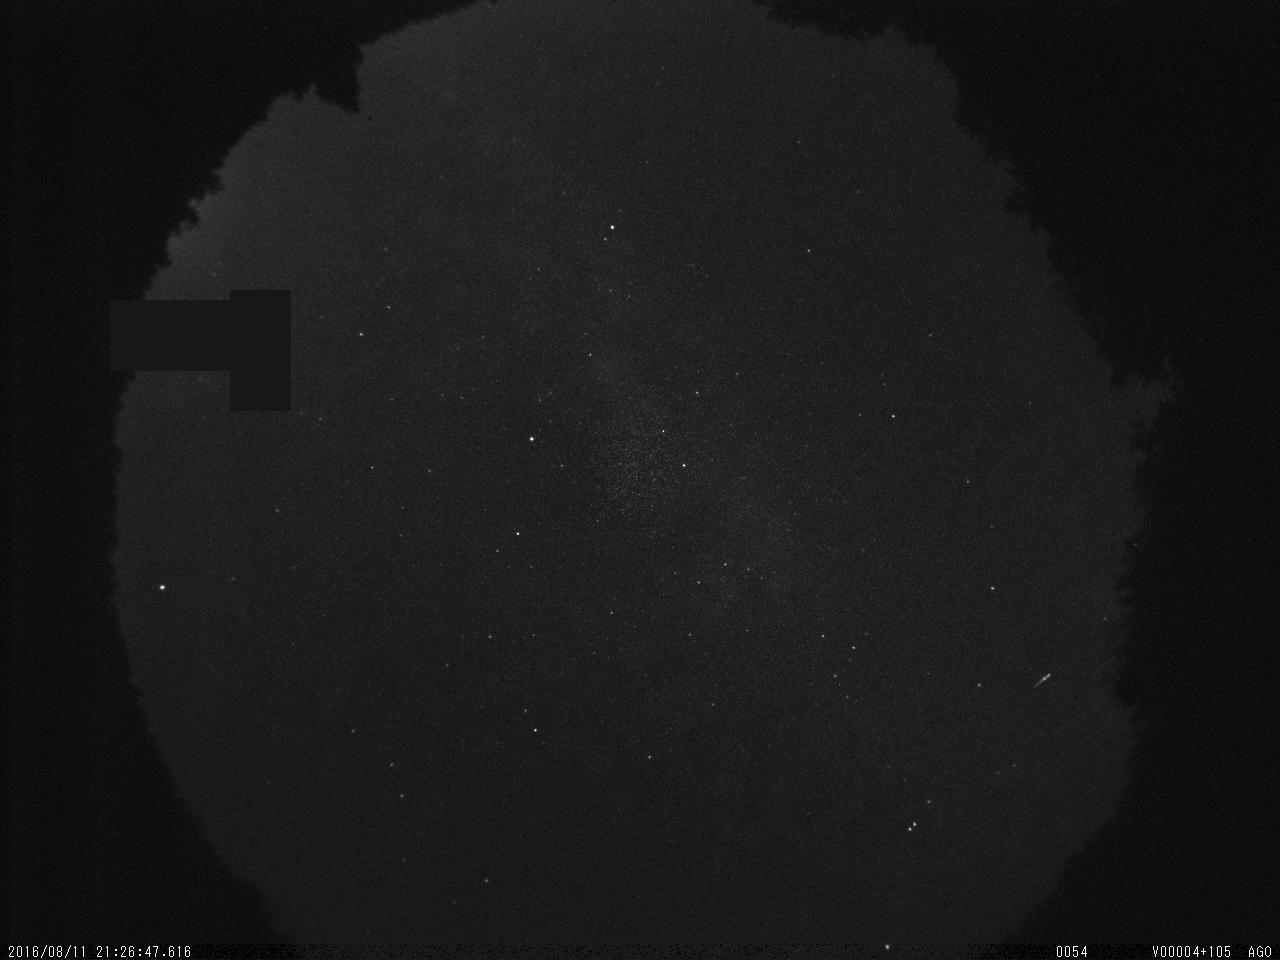meteor: (1029, 669, 1073, 699)
